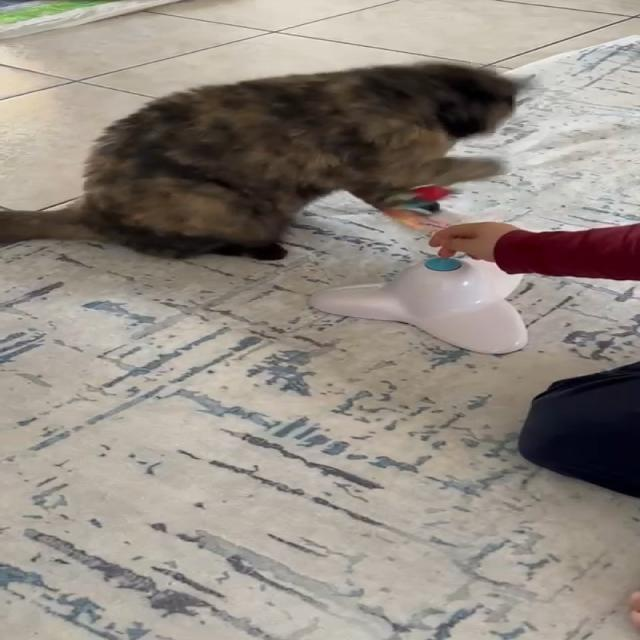authorized: (0, 61, 519, 261)
